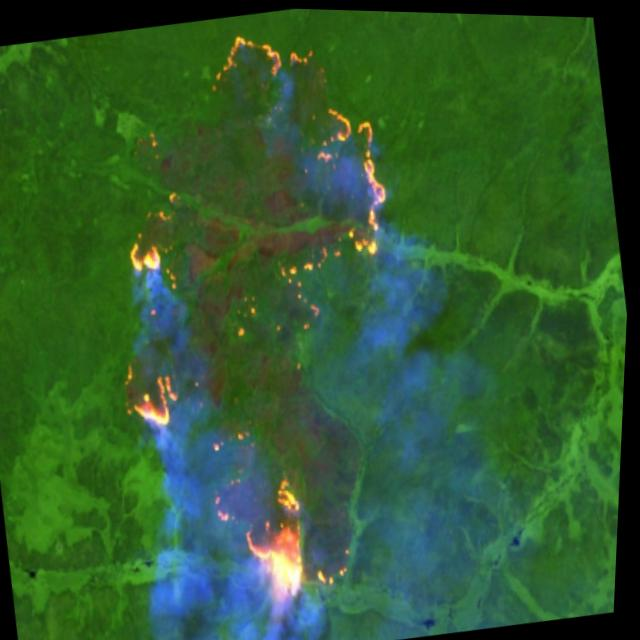fire: (190, 8, 409, 299), (84, 193, 207, 445), (198, 445, 377, 617)
